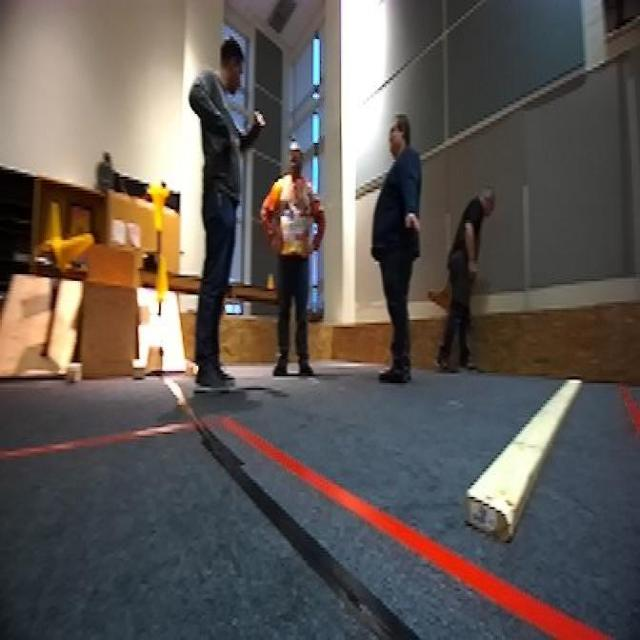frc_cone: (48, 226, 92, 274), (146, 184, 170, 230), (42, 203, 64, 250), (154, 255, 170, 305)
